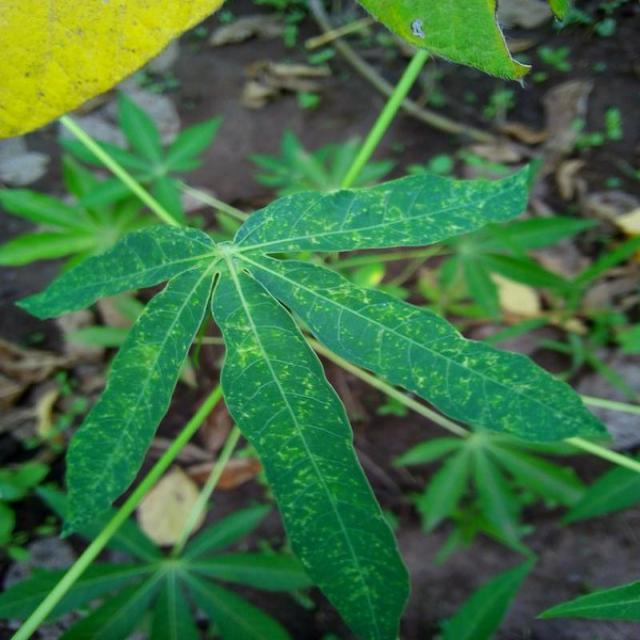cassava leaf: (13, 152, 610, 637), (212, 256, 413, 638), (233, 155, 543, 257), (2, 0, 225, 140), (357, 0, 533, 87)
